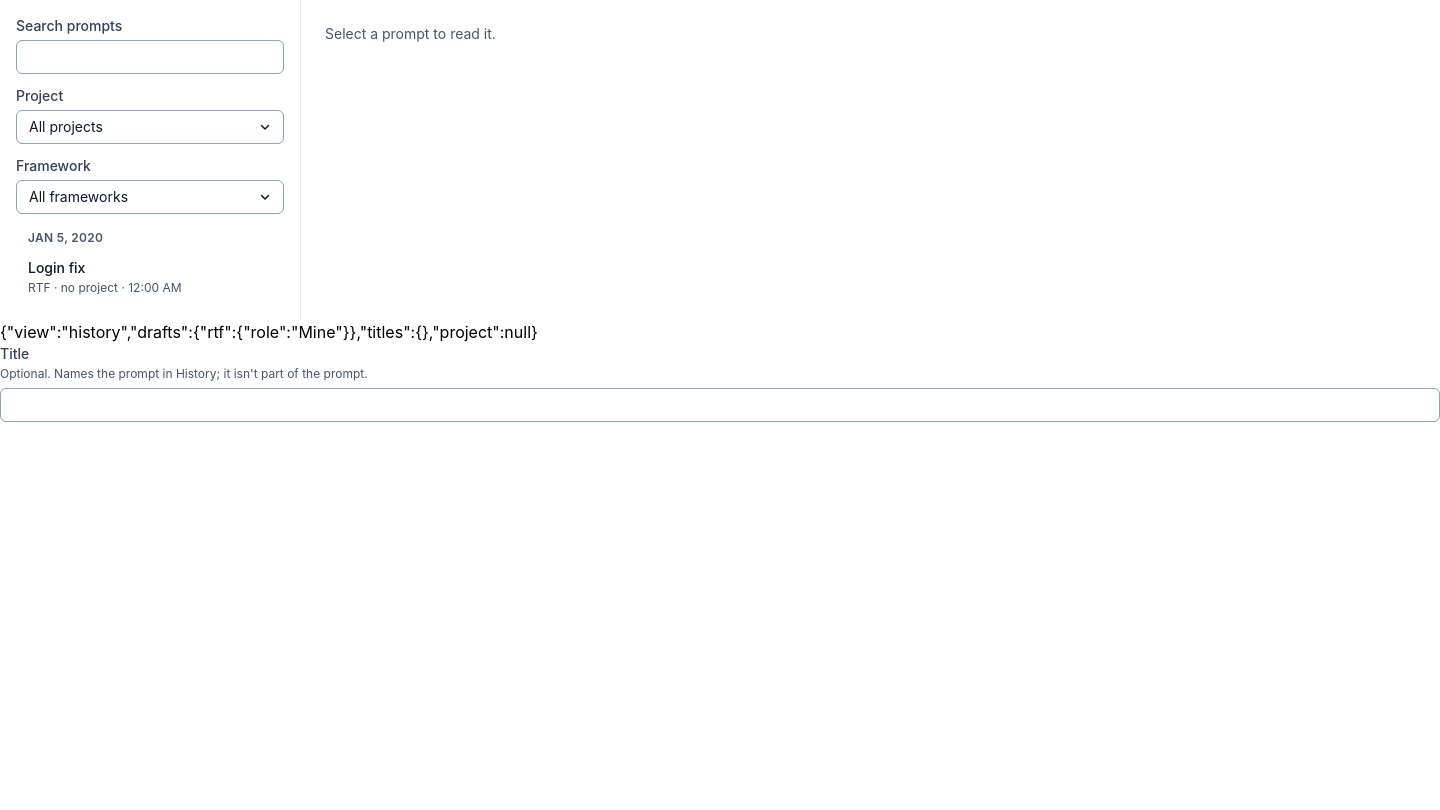
Test case: OpenInBuilder › cancel_leaves_the_builder_untouched
Click the button "Login fix RTF · no project · 12:00 AM": (150, 277) [16,250,284,304]
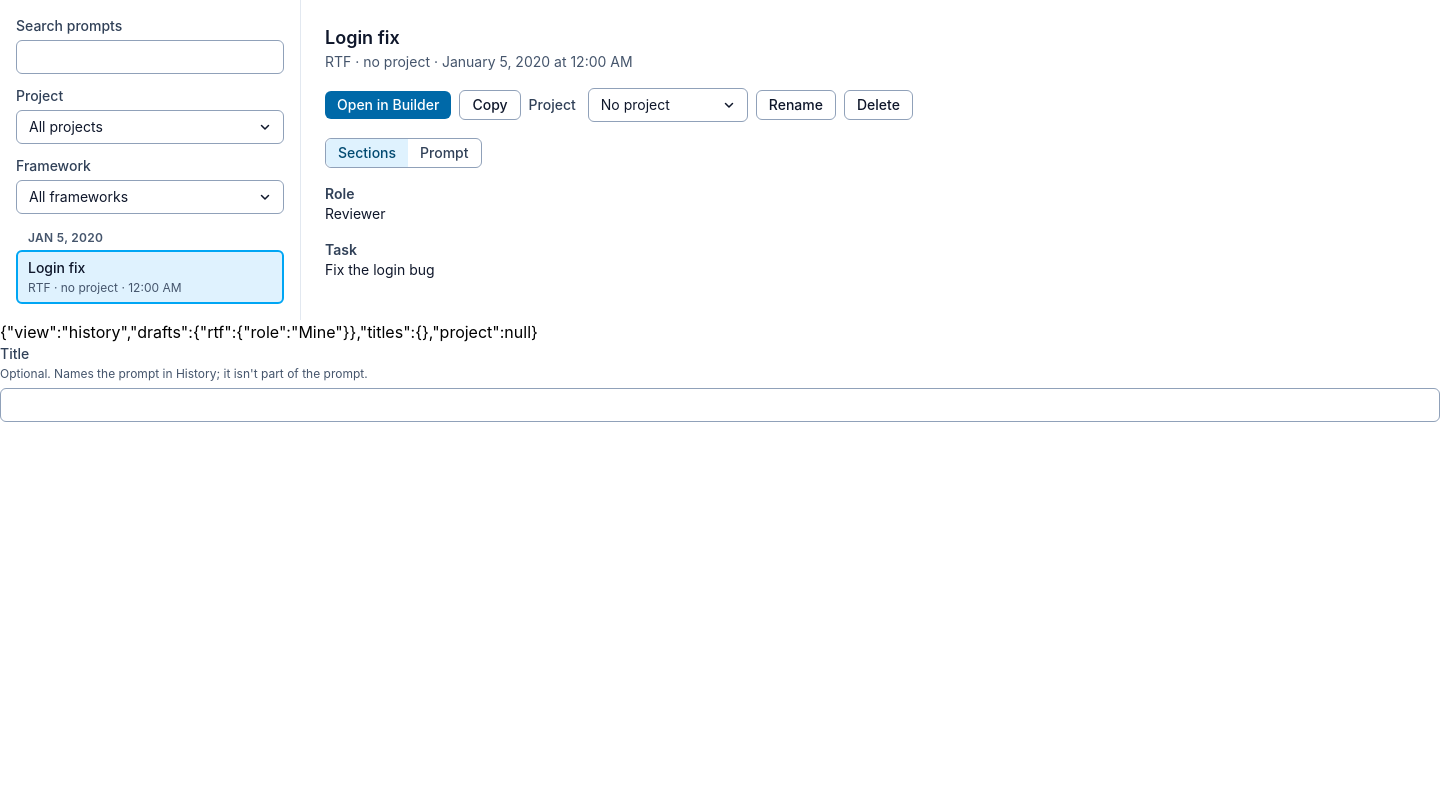
Click the button "Open in Builder": (388, 105) [325,91,451,119]
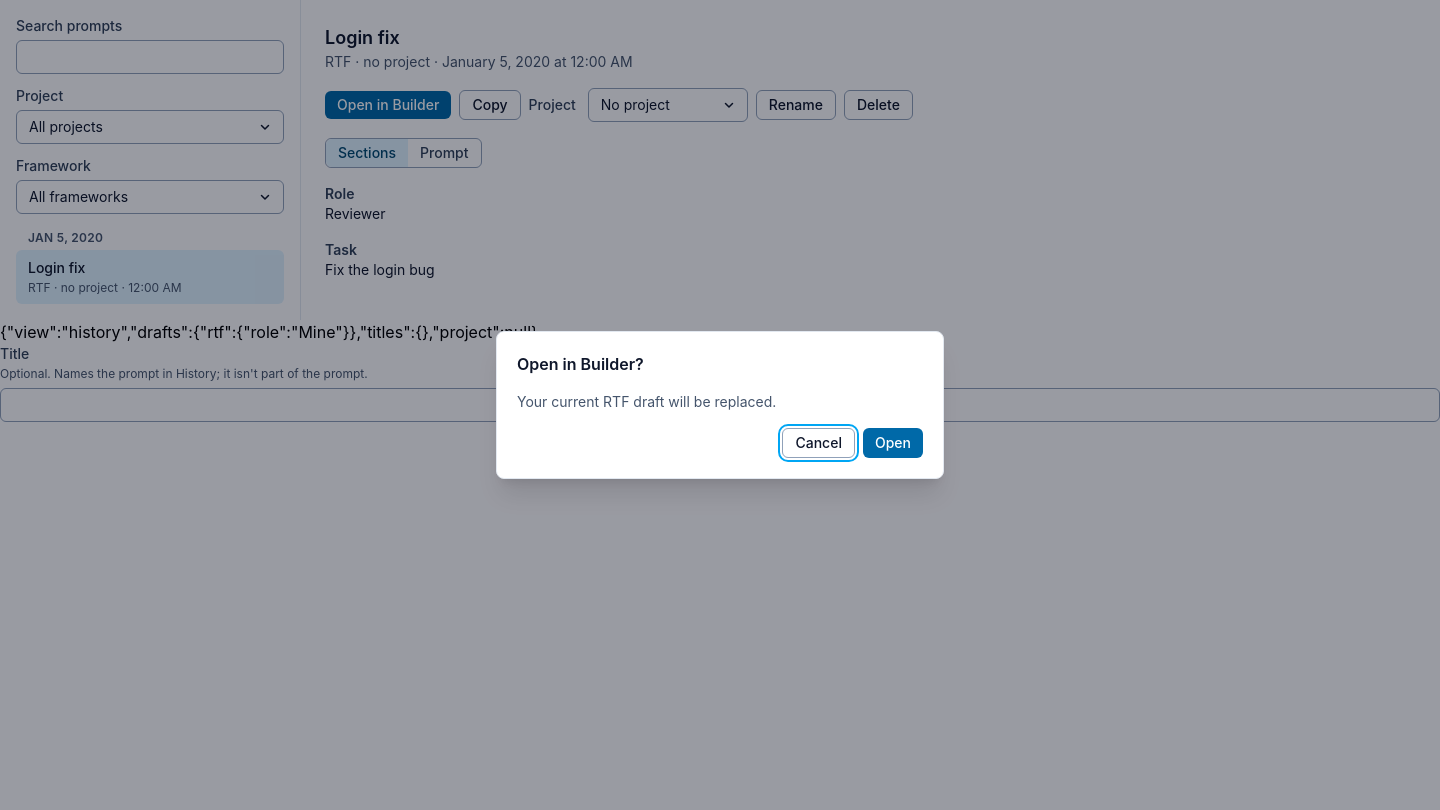
Click the button "Cancel": (819, 443) [782,428,855,458]
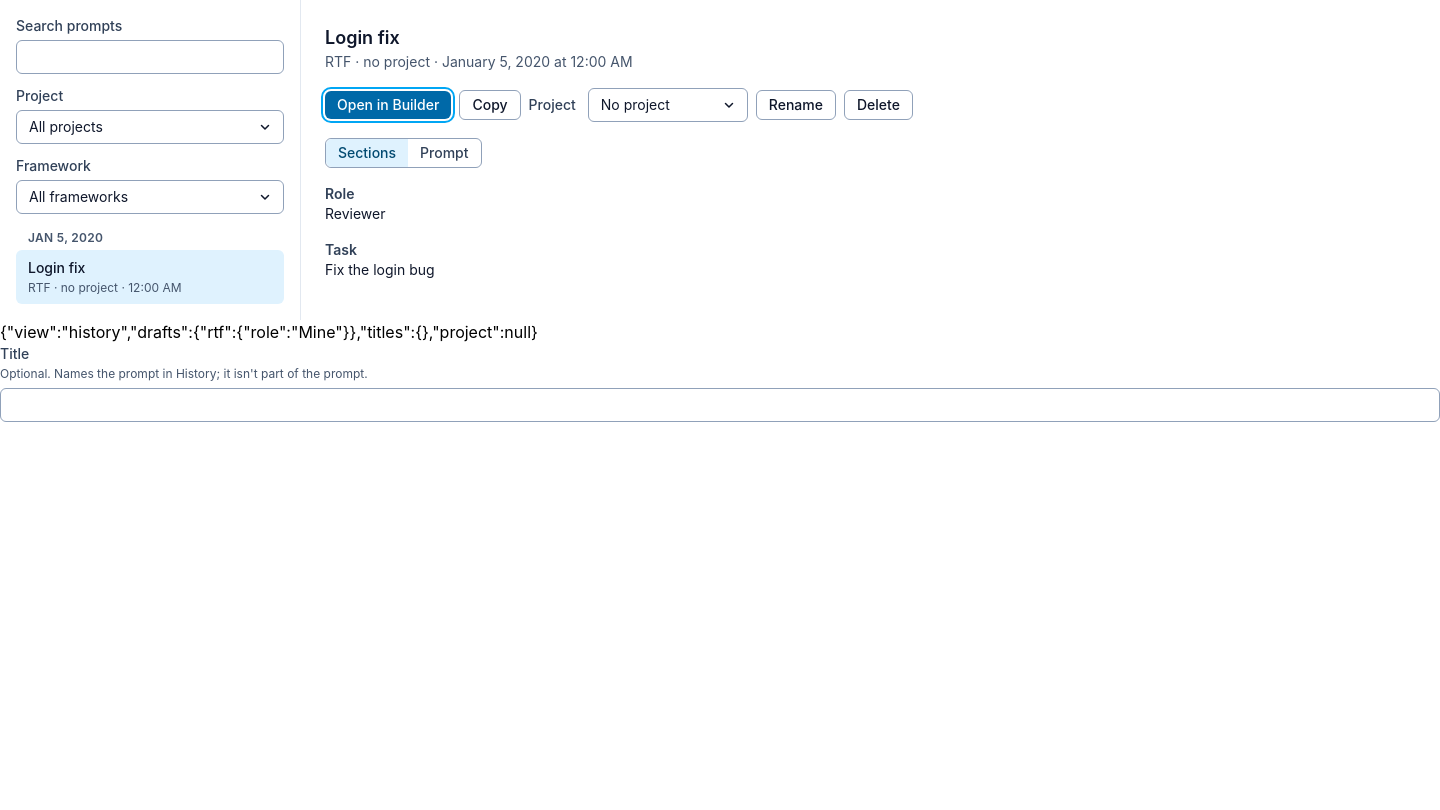
expect the dialog is gone: met
